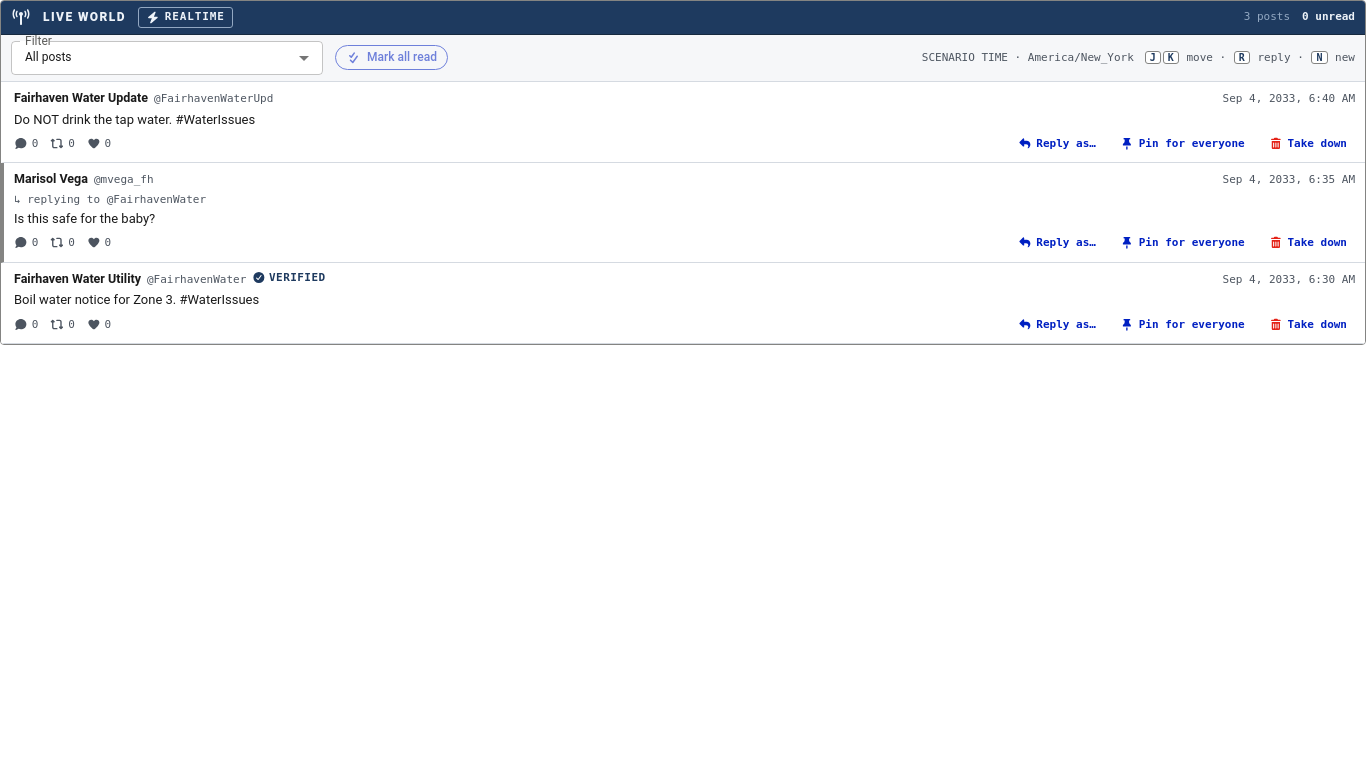
TakedownAction through renderRowActions › failure inside a row shows the message in that row only, with Retry
Click the button with test id "takedown-trigger" below "Sep 4, 2033, 6:35 AM" at (1308, 243), box [1261, 231, 1355, 255]
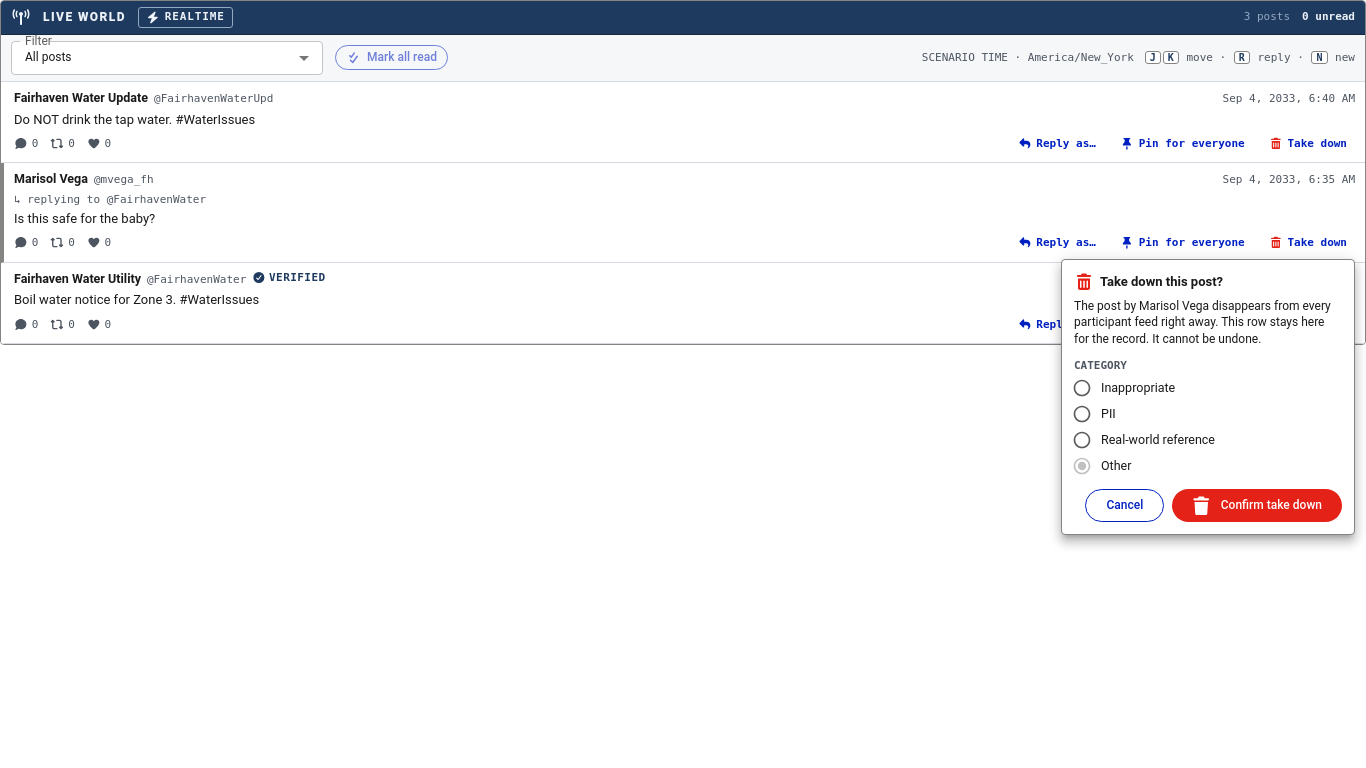
Click the button "Confirm take down" at (1257, 506), box [1172, 489, 1342, 522]
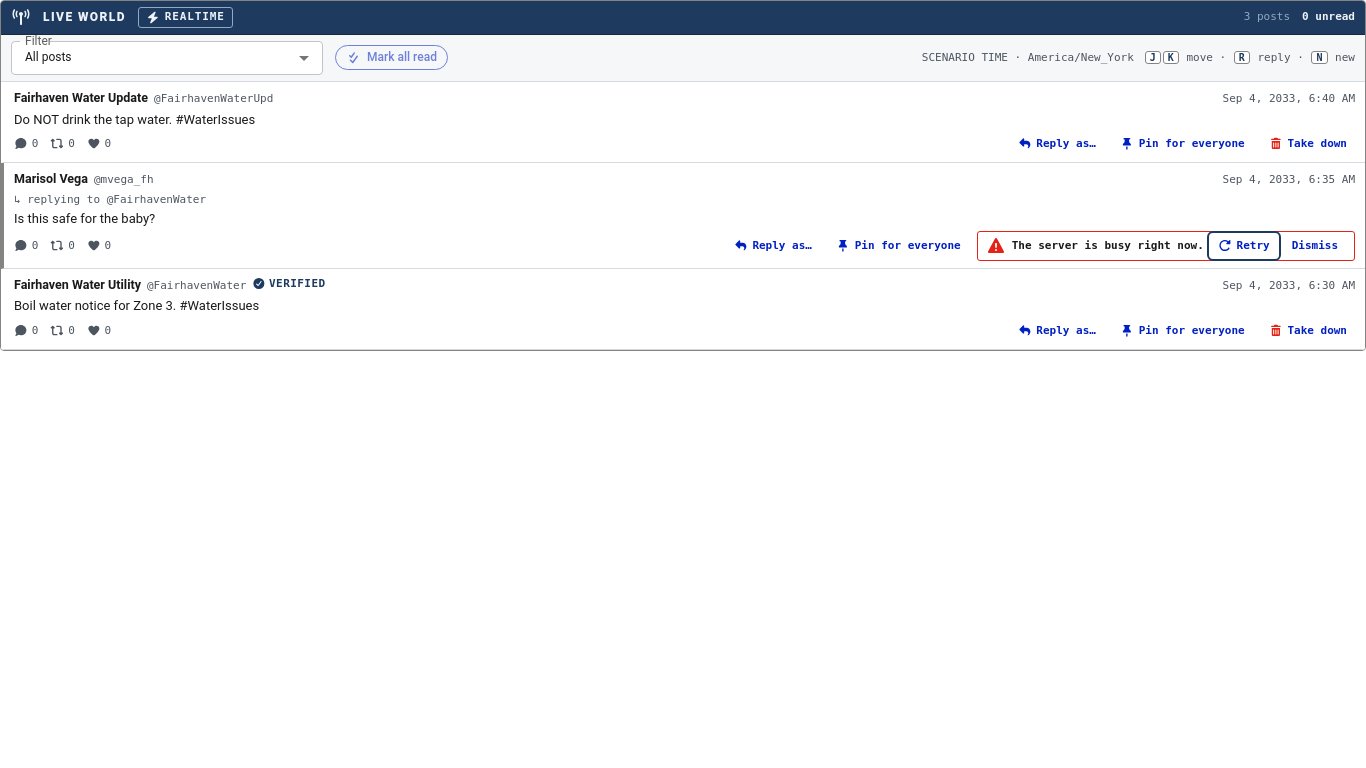
expect the message "The server is busy right now. Retry Dismiss" is shown: met, box [977, 231, 1355, 261]
